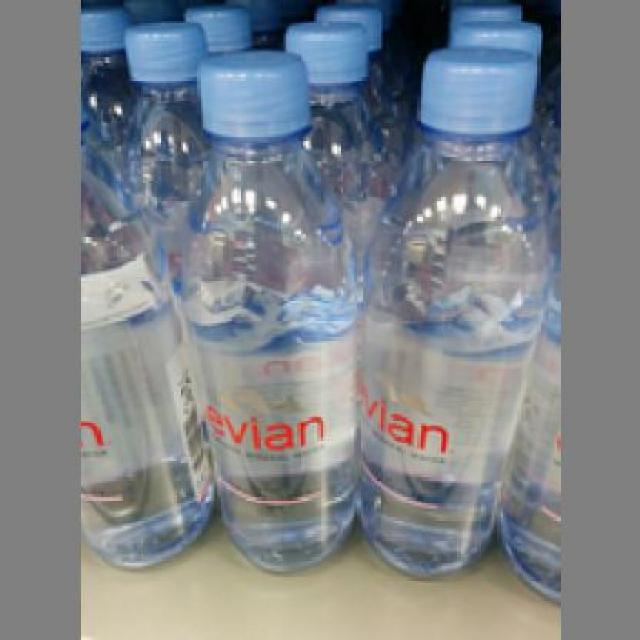Water: (350, 37, 546, 577), (174, 46, 354, 572)
